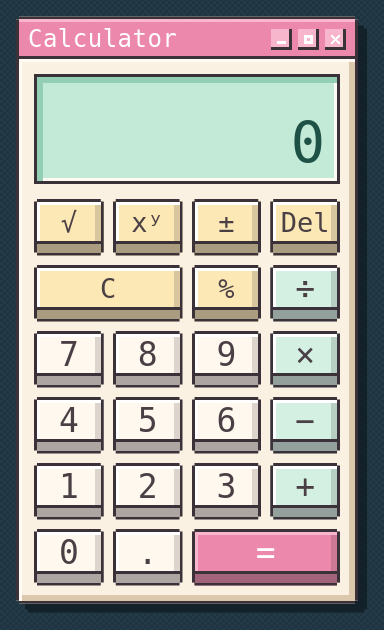
it: Calculator › shows a readable message for backend errors
The width and height of the screenshot is (384, 630).
Click the button "5". click: (148, 425)
box: [113,397,183,454]
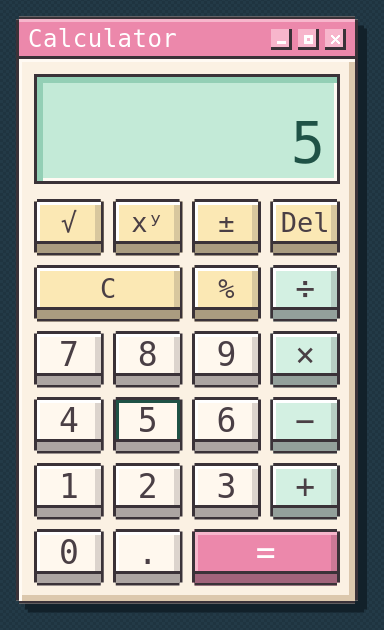
Click the button named "divide". click: (305, 293)
box: [270,265,340,322]
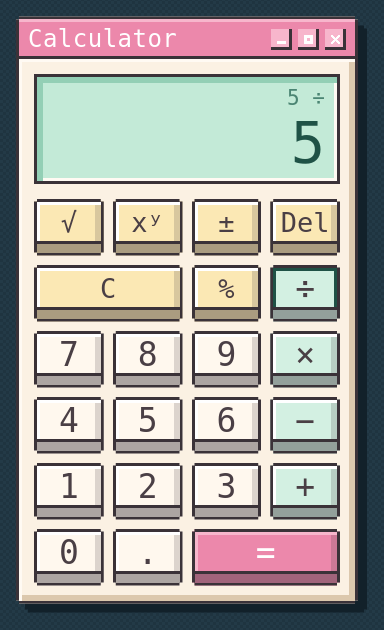
Click the button "0". click: (69, 557)
box: [34,529,104,586]
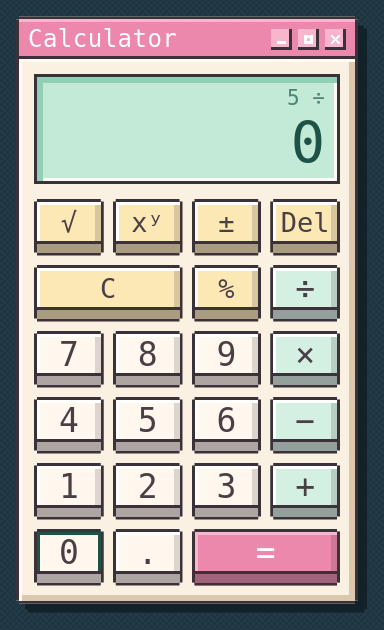
Click the button named "equals". click: (266, 557)
box: [192,529,340,586]
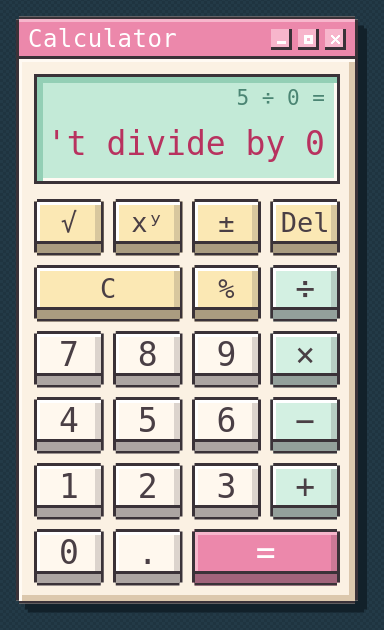
Now the text "Can't divide by 0" is shown, box [49,115,325,172]
Now the text with test id "expression" reads "5 ÷ 0 =", box [236,86,325,110]
Click the button "4". click: (69, 425)
box: [34,397,104,454]
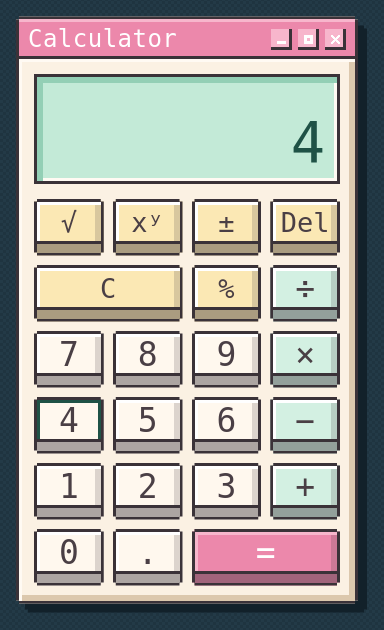
Now the message with test id "display" reads "4", box [291,110,325,176]
